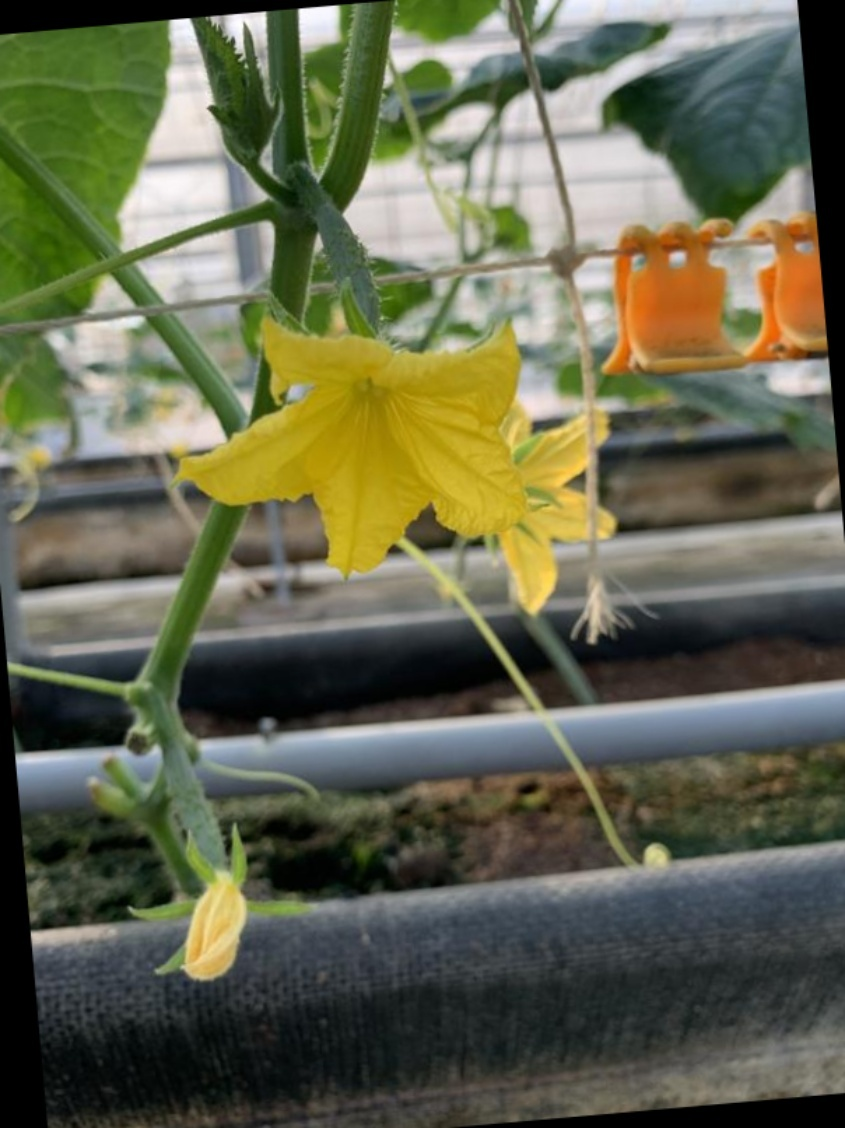flowering: (160, 189, 531, 579)
